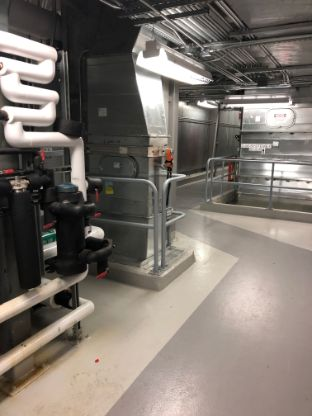Duct: (81, 38, 180, 271), (229, 81, 312, 218)
